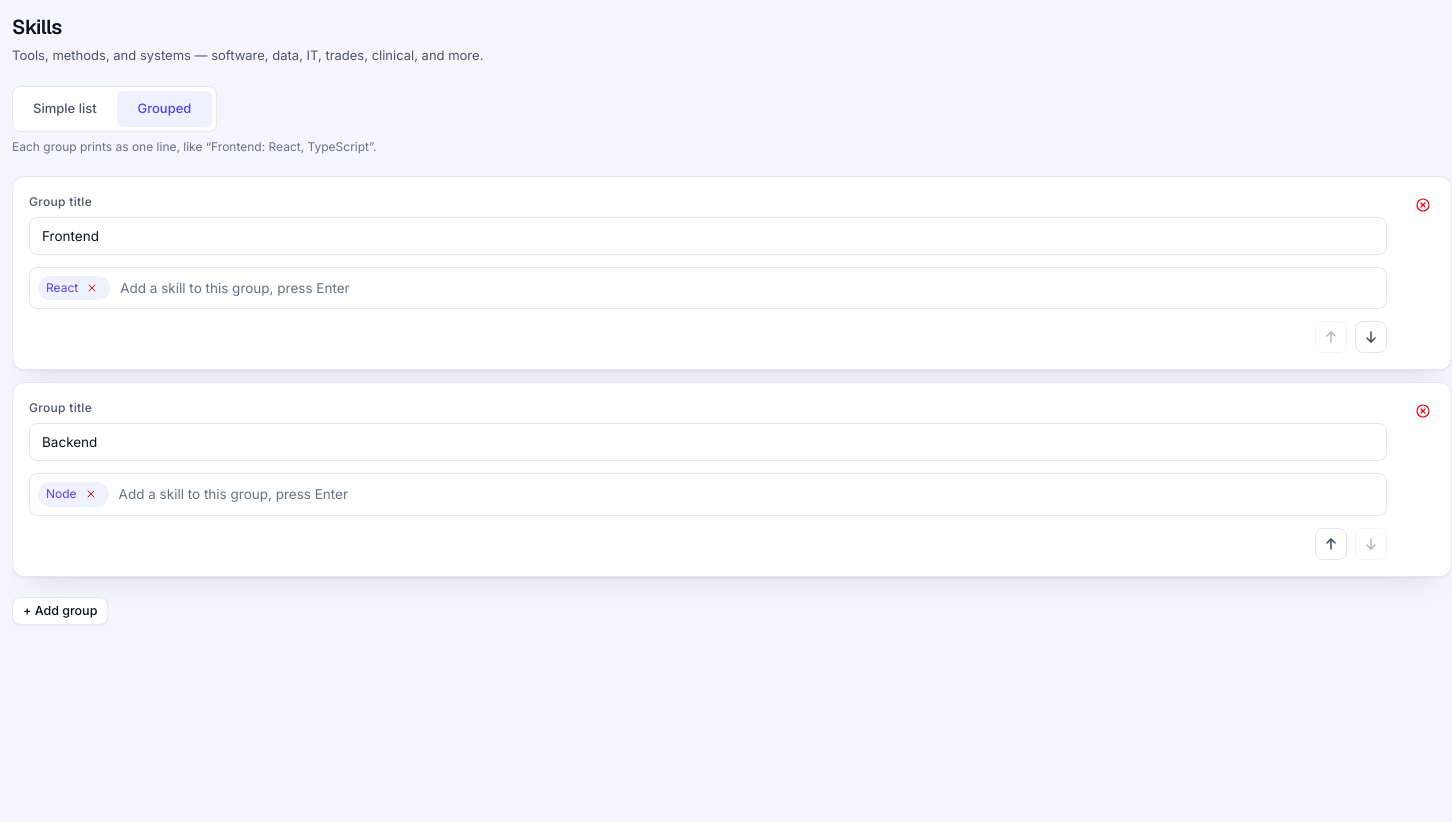
Scenario: SkillsForm — layout switch › switching back shows every grouped skill in the simple list
Click the radio button labelled "Simple list" at (65, 108), box left=17, top=90, right=113, bottom=126
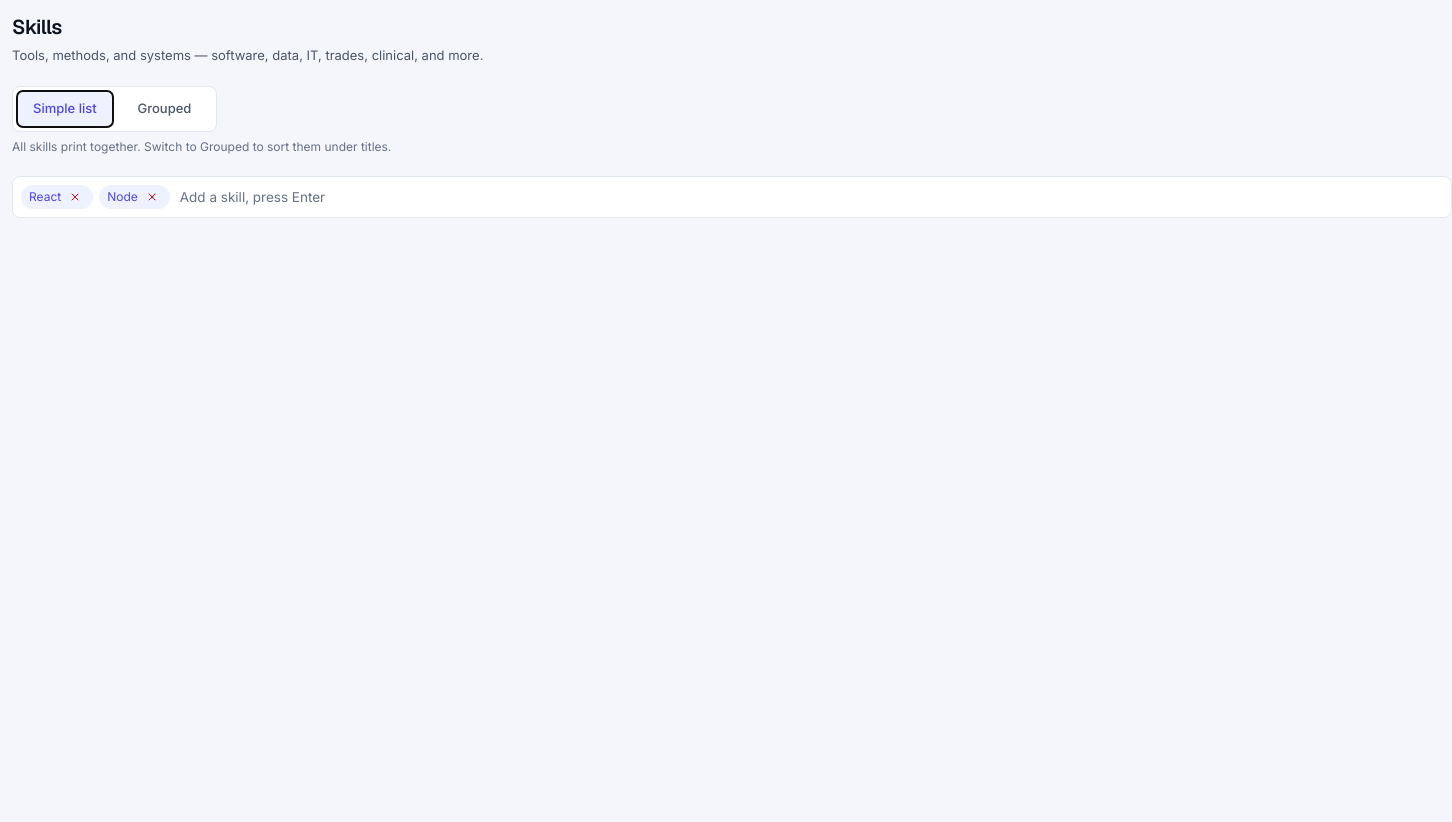
Expected: the text "React" is shown, left=21, top=184, right=93, bottom=209
Result: the dropdown with placeholder "Add a skill, press Enter" is shown at left=176, top=184, right=1443, bottom=209
